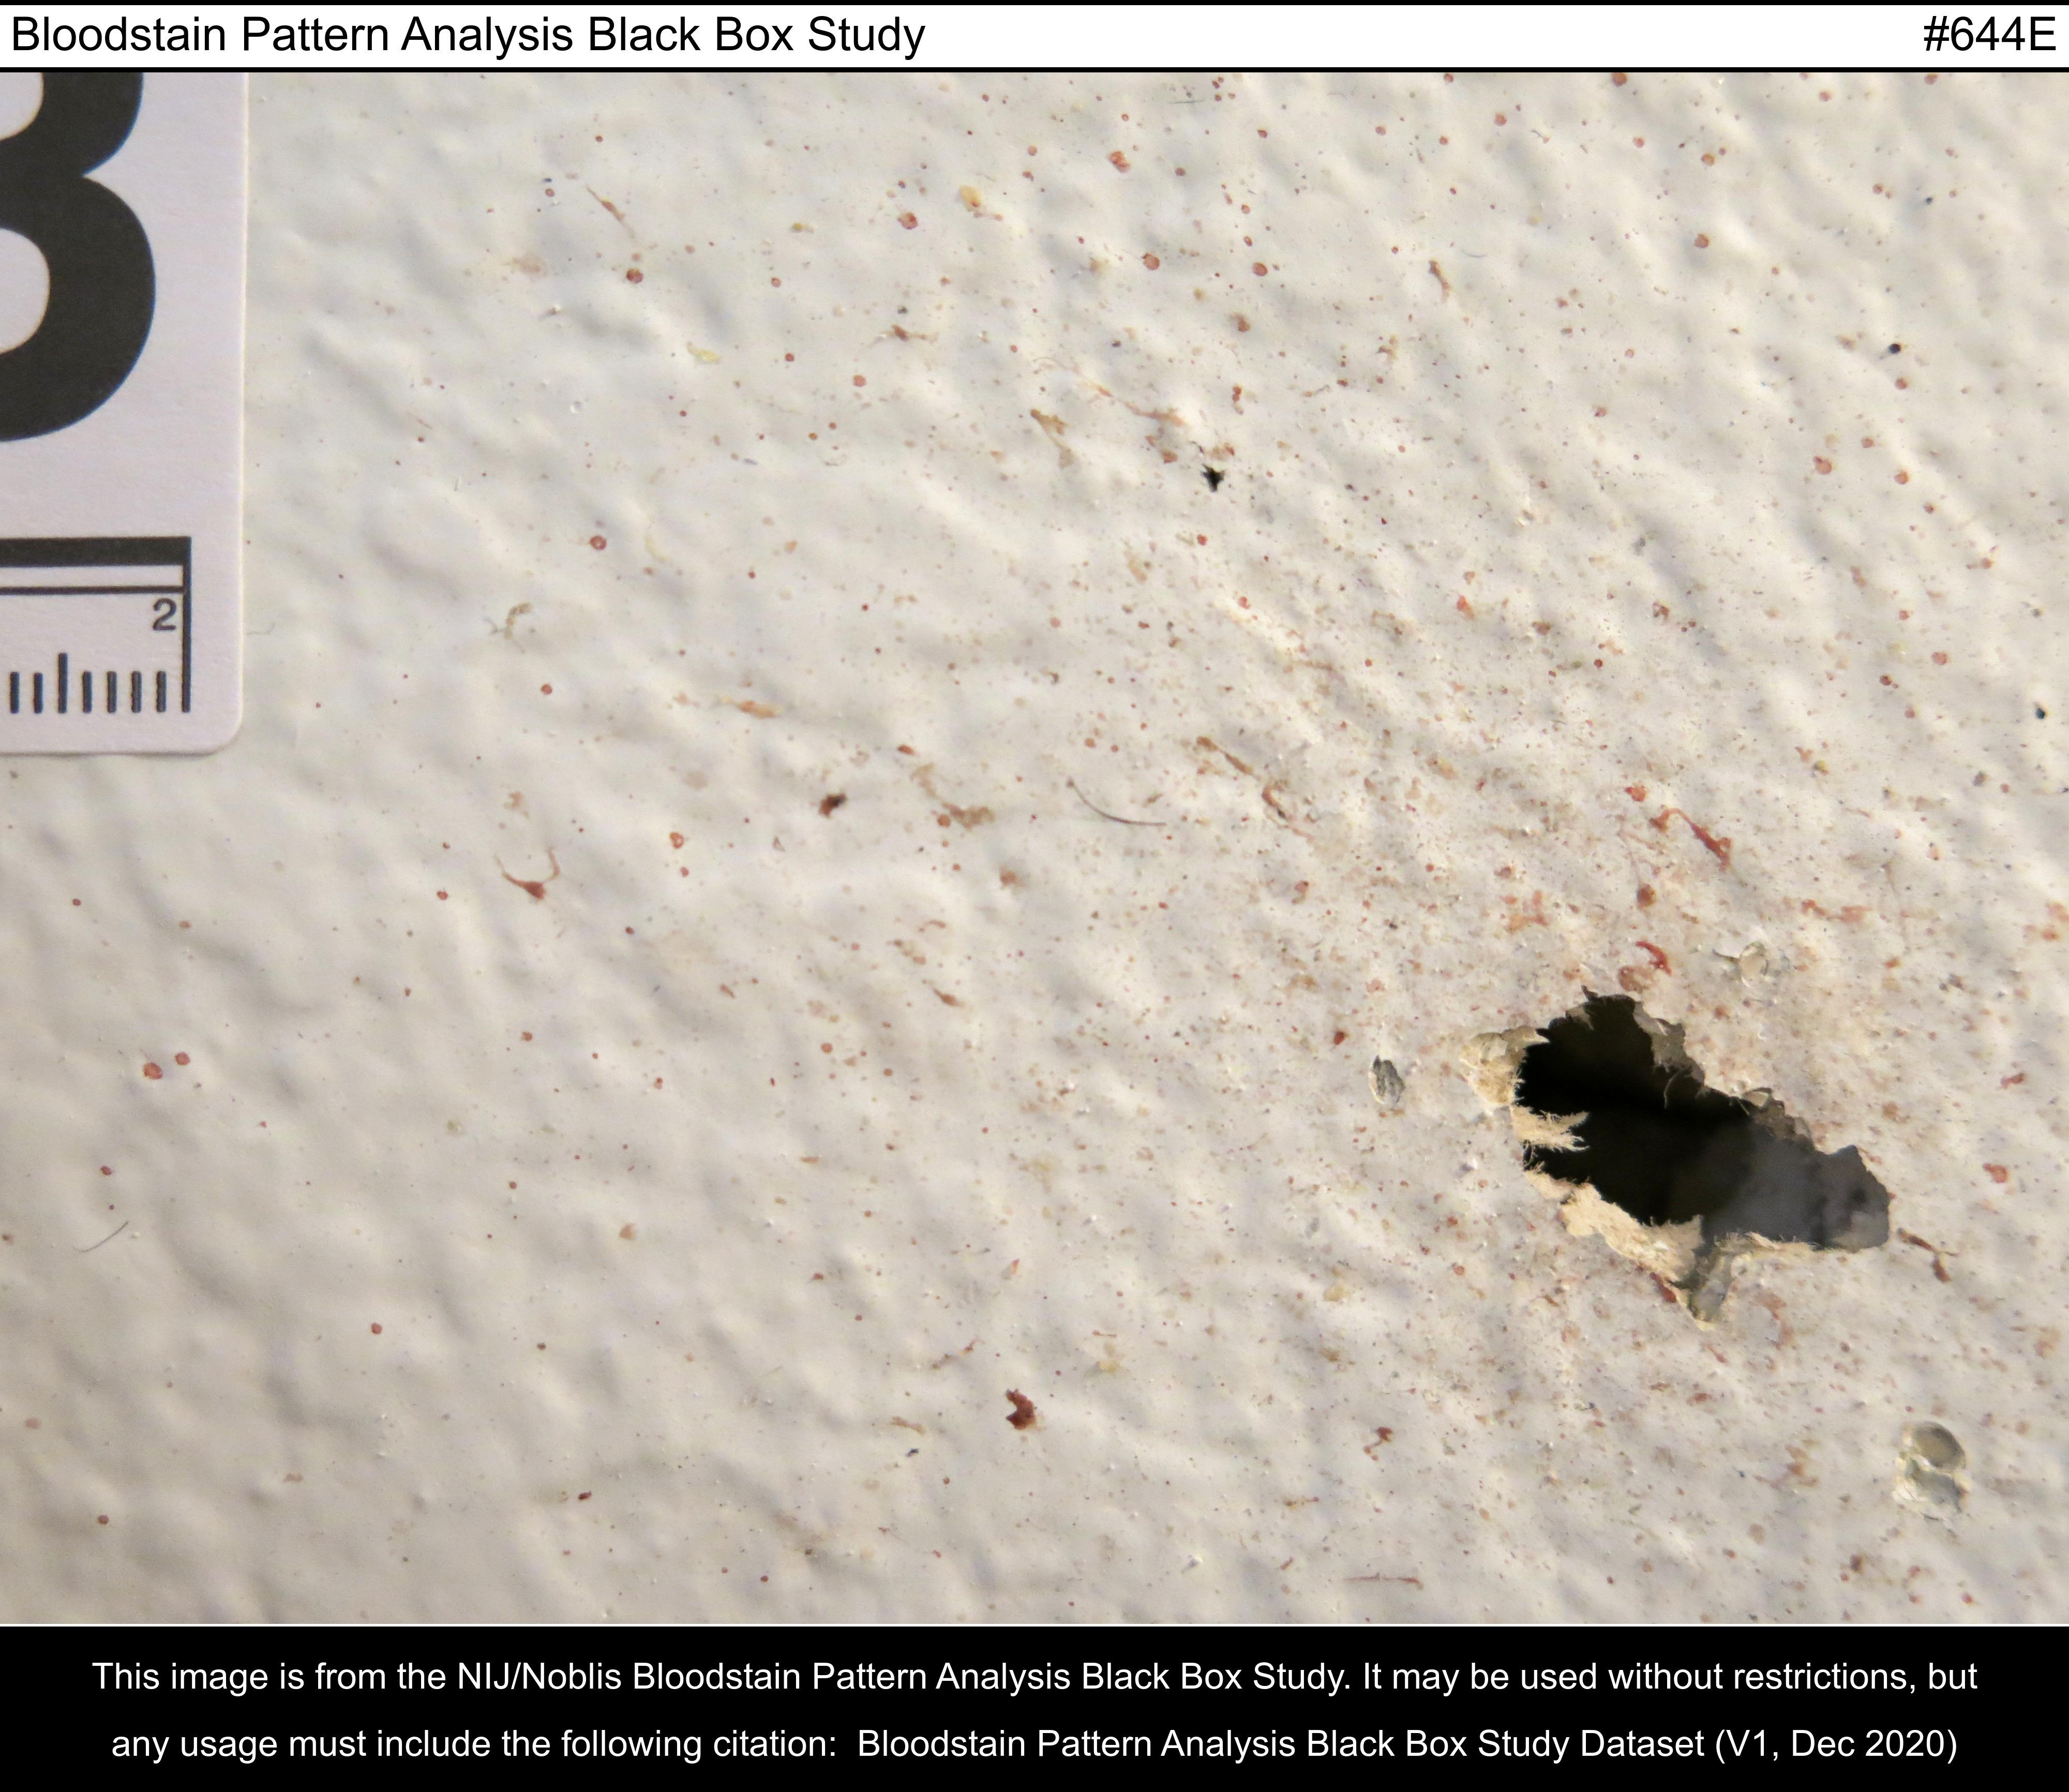Impact: (1407, 529, 1733, 980), (491, 693, 954, 897), (918, 1263, 1161, 1474), (1107, 137, 1272, 422)
